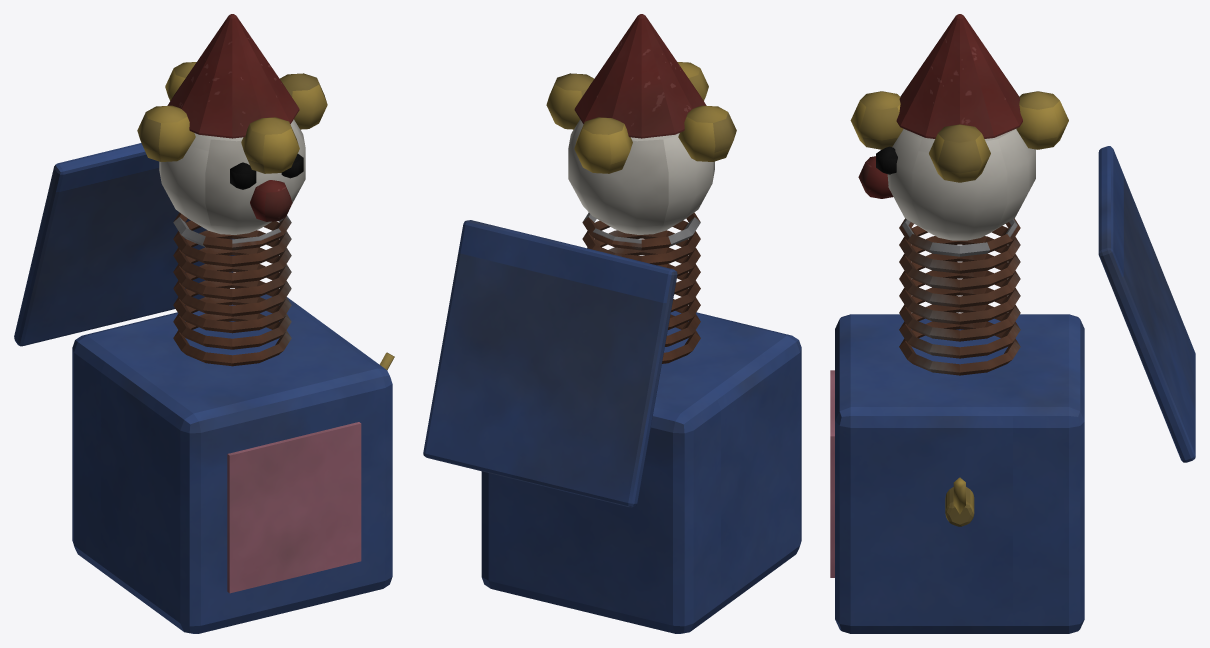
File: TY16_pop_up_toy.glb
3 renders of one model, left to right at view 1: azimuth 30°, elevation 25°; view 2: azimuth 150°, elevation 25°; view 3: azimuth 270°, elevation 25°, orthographic. The views are drawn at different scales.
Visible parts, largest first — view 1: TY16_pop_up_toy; view 2: TY16_pop_up_toy; view 3: TY16_pop_up_toy.
Part boxes in pixels (<box>): TY16_pop_up_toy: <box>14,14,394,633</box>; TY16_pop_up_toy: <box>423,14,801,633</box>; TY16_pop_up_toy: <box>830,14,1195,633</box>.
Bounding box in the file's own units: 0.1506 × 0.3 × 0.1734.
Materials: 7 (7 with a texture image).
